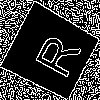R: (25, 26, 83, 81)
